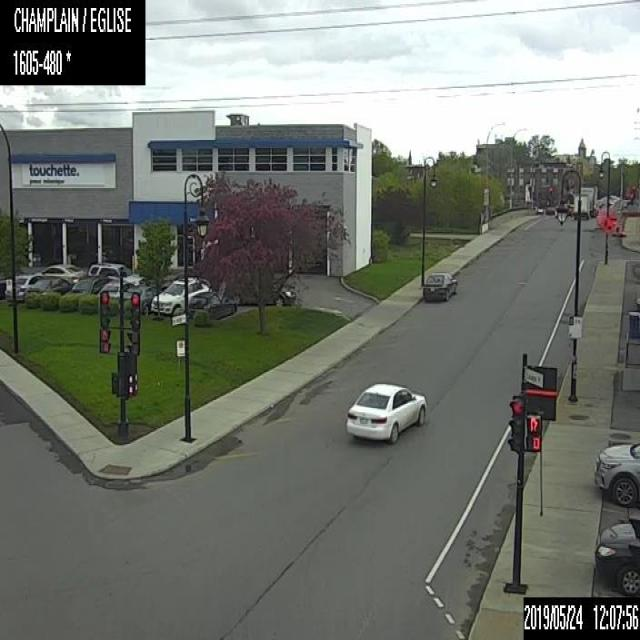construction: (601, 216, 612, 233), (596, 214, 600, 228), (598, 214, 602, 228)
vehicle: (346, 379, 428, 445), (594, 516, 639, 594), (593, 440, 639, 506), (150, 276, 211, 314), (188, 290, 236, 318), (237, 282, 295, 305), (87, 262, 145, 285), (421, 268, 457, 303), (123, 285, 162, 315), (34, 262, 86, 284), (5, 273, 44, 301), (25, 274, 75, 294), (71, 274, 112, 294), (96, 280, 136, 296), (580, 185, 595, 215), (573, 194, 589, 218), (566, 203, 574, 215), (544, 205, 554, 213), (596, 198, 602, 206), (595, 202, 599, 211)
